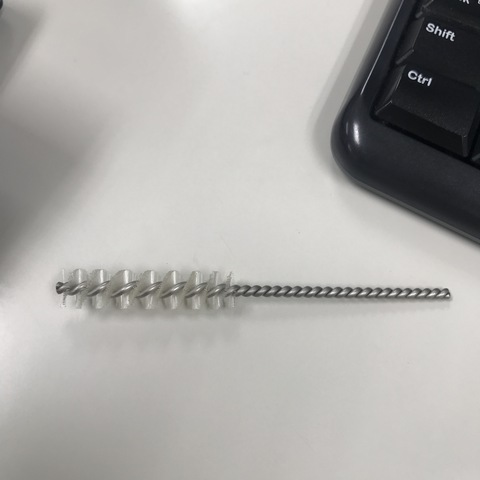Twist Brush-B: (45, 264, 454, 312)
